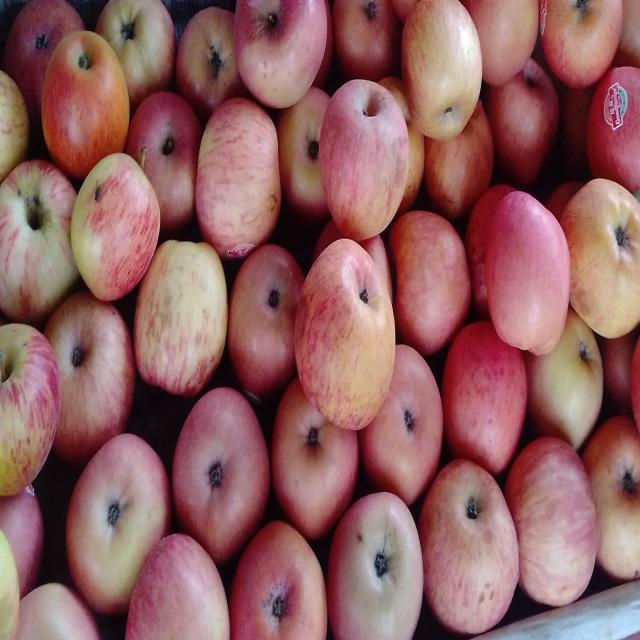Fresh Apple: (294, 237, 398, 420), (315, 500, 437, 640), (475, 184, 573, 358), (306, 90, 426, 232), (53, 435, 162, 585), (427, 470, 520, 640), (516, 452, 606, 608), (40, 35, 140, 175), (68, 162, 172, 292), (175, 390, 260, 548), (42, 293, 133, 435), (137, 248, 230, 385), (195, 120, 290, 247), (445, 343, 532, 460), (242, 243, 298, 362)
